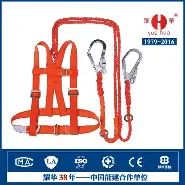safety belt: (18, 23, 148, 146)
